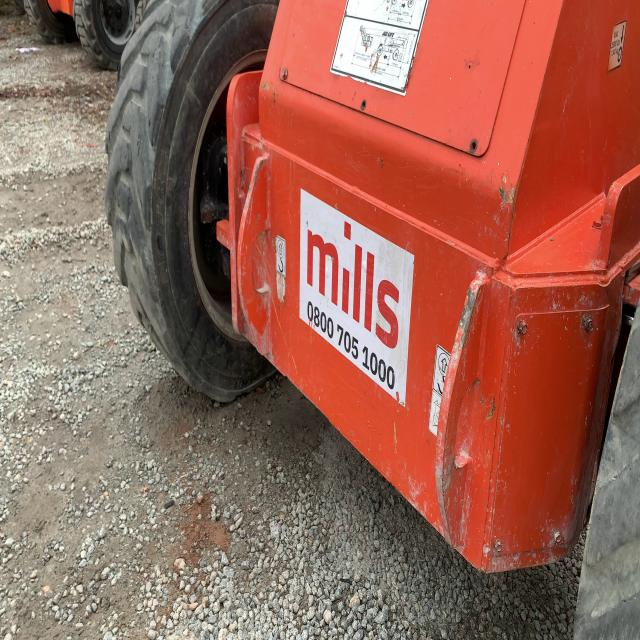Adesivos: (296, 185, 416, 411)
